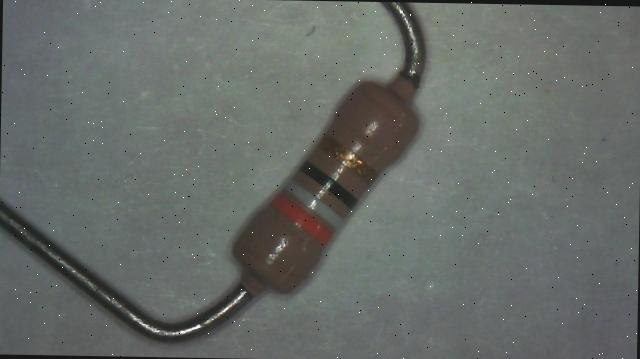black: (300, 161, 358, 208)
gold: (320, 136, 374, 180)
orange: (270, 191, 332, 244)
resistor: (199, 55, 451, 313)
white: (285, 182, 344, 229)
